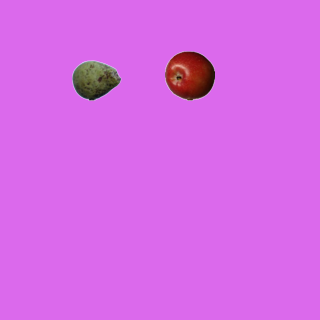Apple Braeburn: (164, 50, 214, 100)
Pear Stone: (71, 55, 121, 105)
